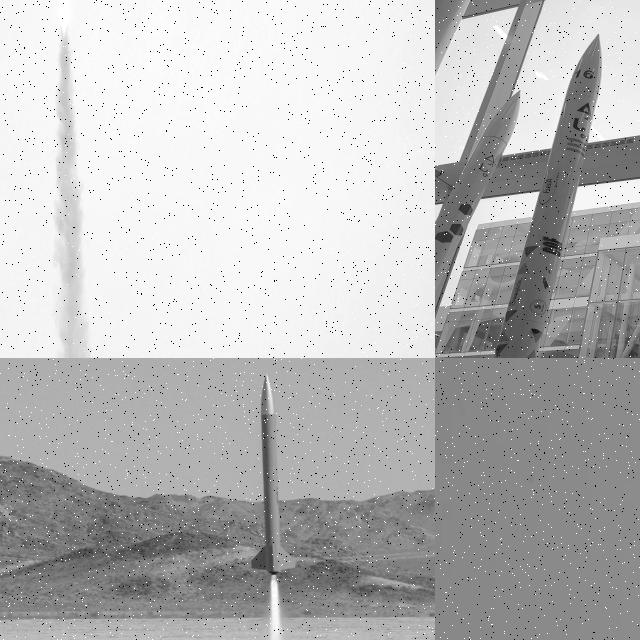Rocket: (493, 34, 602, 358), (435, 90, 521, 292), (250, 372, 298, 576)
